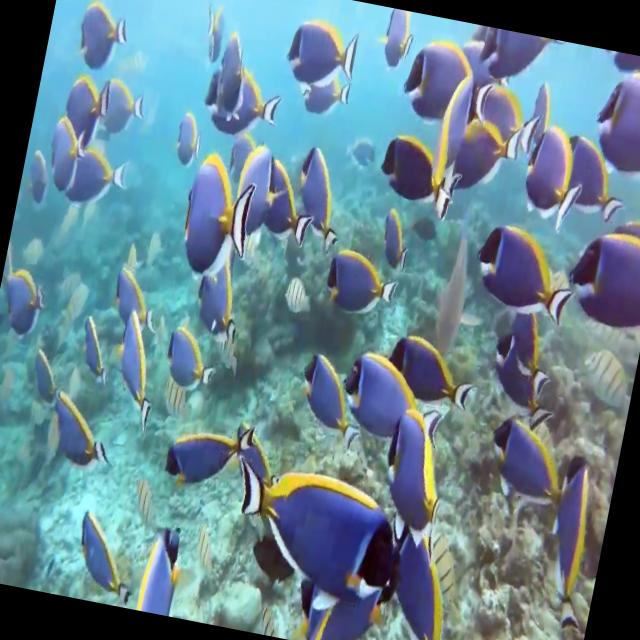fish: (214, 452, 416, 608), (531, 446, 610, 634), (468, 218, 580, 328), (335, 348, 454, 449), (368, 407, 459, 530), (175, 153, 262, 281), (285, 346, 376, 458), (480, 410, 570, 510), (158, 408, 259, 495), (559, 222, 640, 325), (102, 309, 168, 435), (400, 38, 483, 136), (384, 327, 482, 407), (374, 132, 459, 224), (428, 56, 482, 200), (463, 72, 545, 166), (518, 123, 592, 224), (64, 510, 140, 606), (286, 144, 353, 252), (46, 135, 132, 219), (42, 389, 123, 472), (581, 68, 640, 177), (283, 13, 364, 90), (320, 245, 403, 320), (209, 58, 284, 141), (190, 250, 252, 346), (132, 514, 188, 616), (57, 65, 115, 146), (157, 324, 220, 394)
